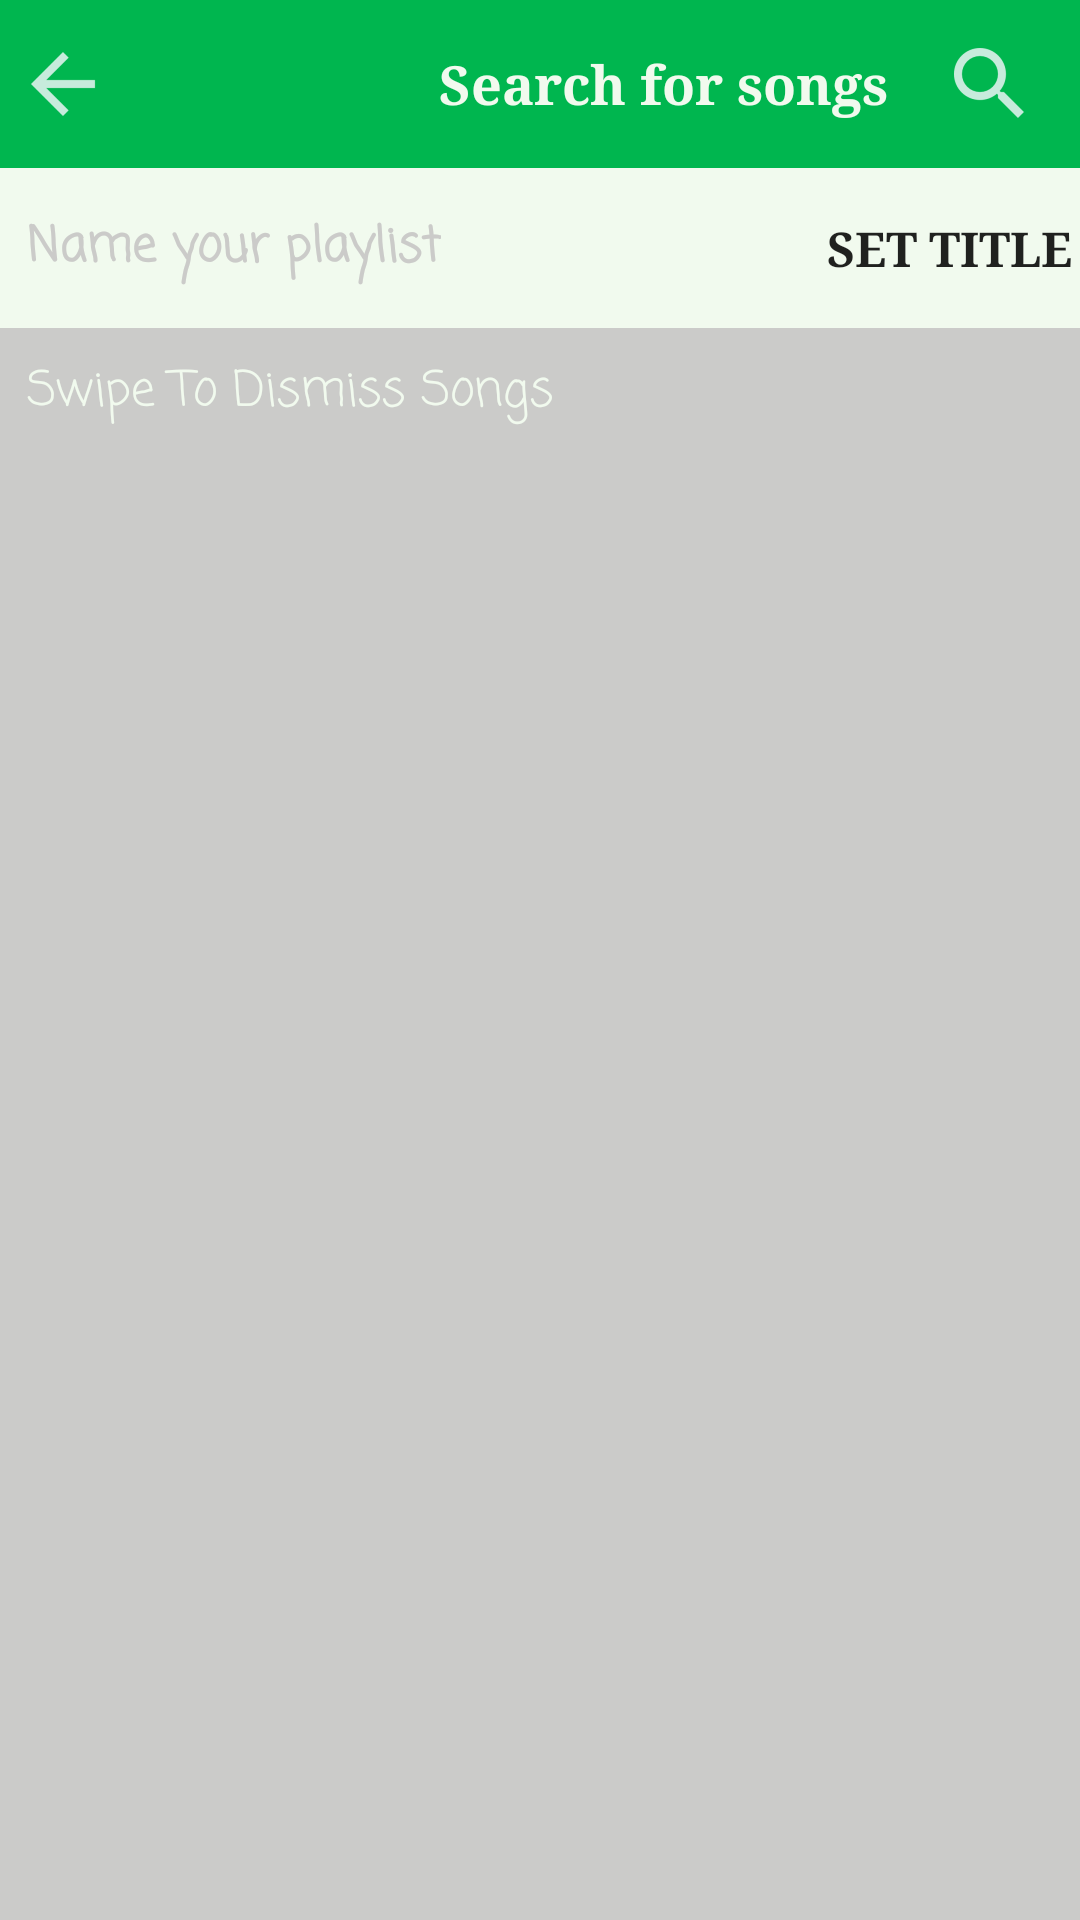

Named icons in this screenshot (1080w x 1920h) and their centers, point (x, y):
back: point (63, 84)
